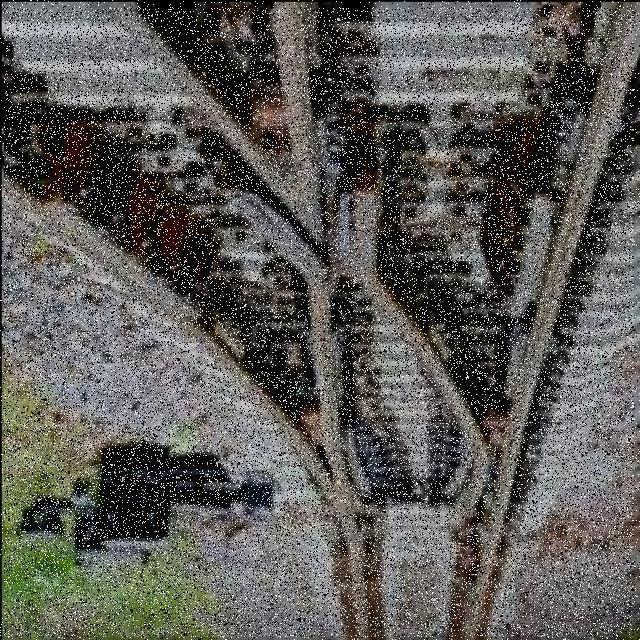rail: (5, 9, 634, 638)
